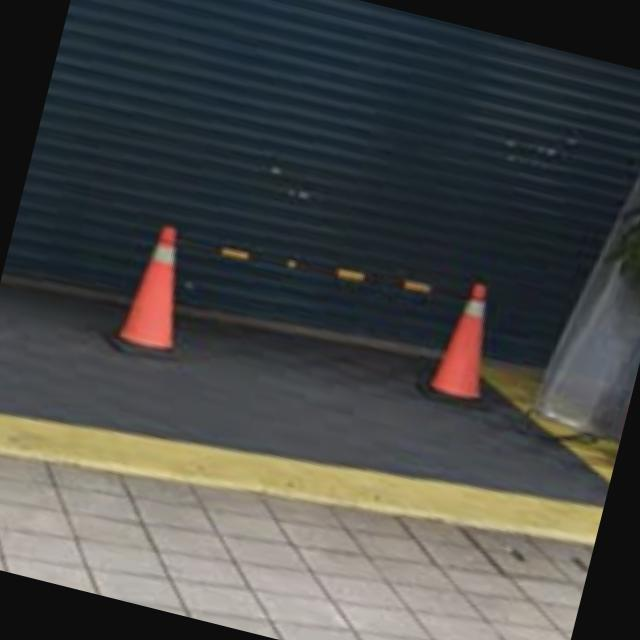cone: (112, 206, 208, 360), (417, 268, 516, 414)
